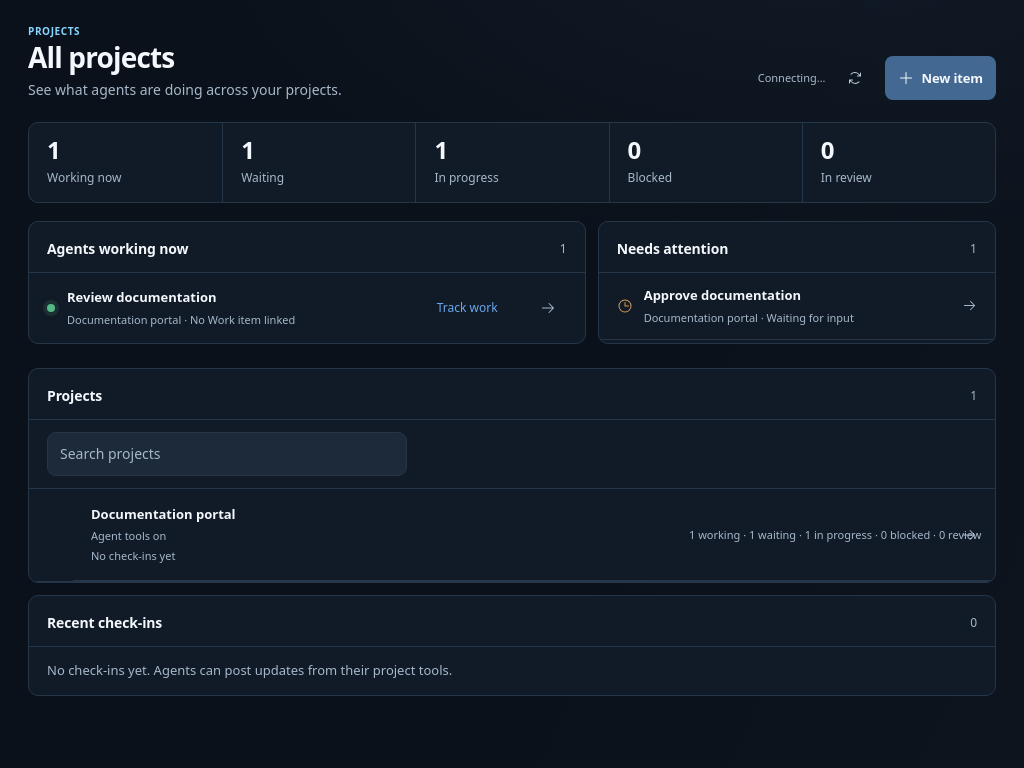
Test: Work operator journey › shows active conversations even before an agent links a Work item
Expected: the text "Review documentation" is shown, [67, 288, 216, 306]
Expected: the text "Documentation portal · No Work item linked" is shown, [67, 312, 295, 327]
Click the button "1 Waiting".
click(319, 162)  # box [222, 123, 415, 202]
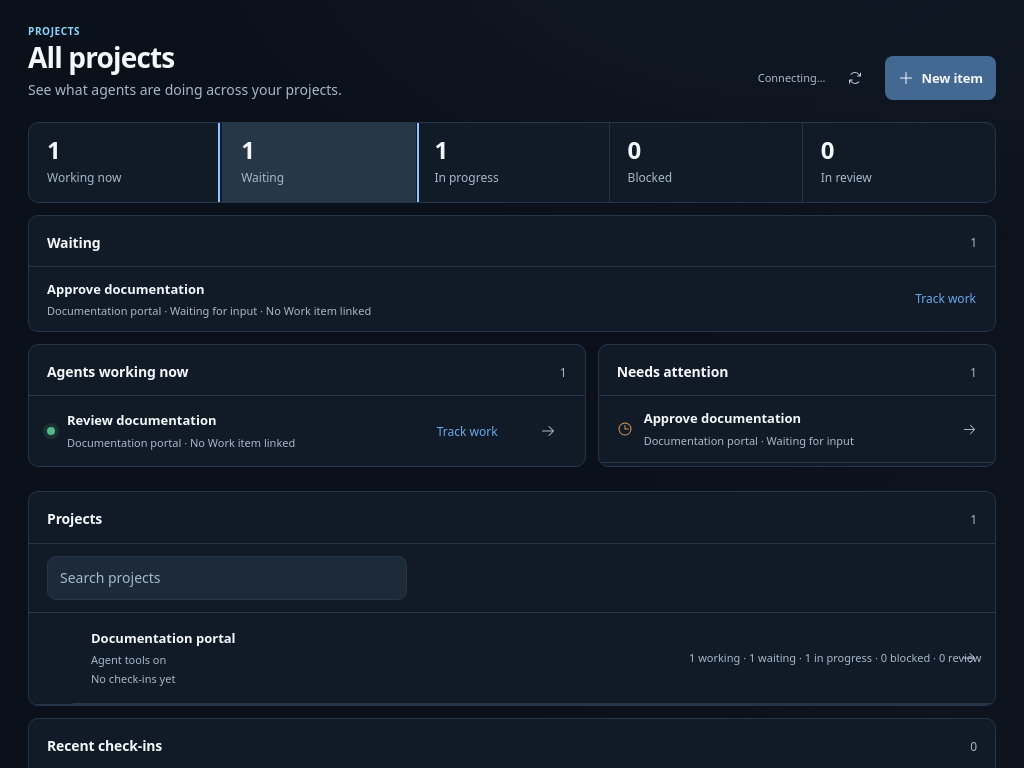
Expected: the element named "Waiting details" shows "Documentation portal · Waiting for input", [28, 214, 996, 332]
